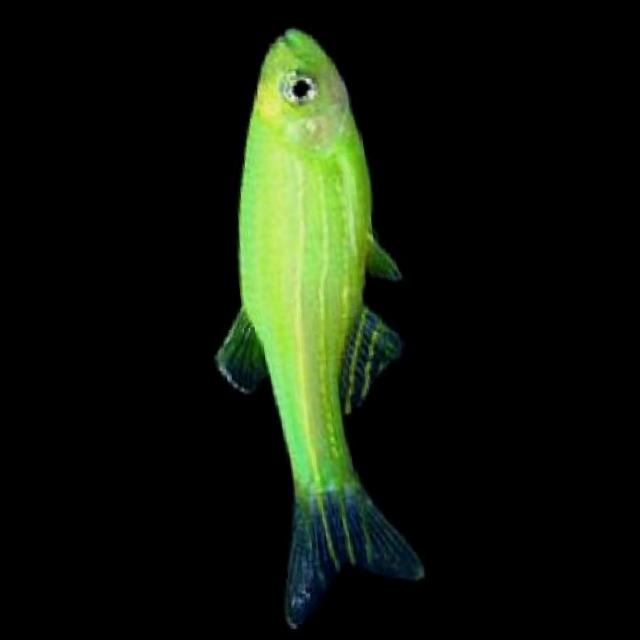ZebraFish: (184, 20, 436, 628)
